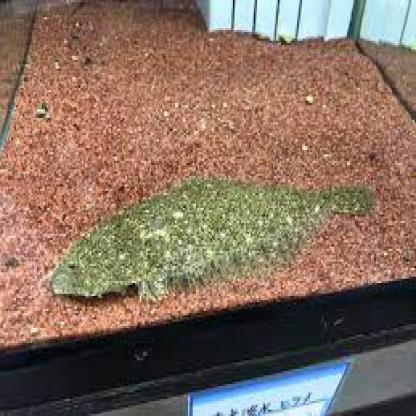flounder: (39, 163, 391, 317)
